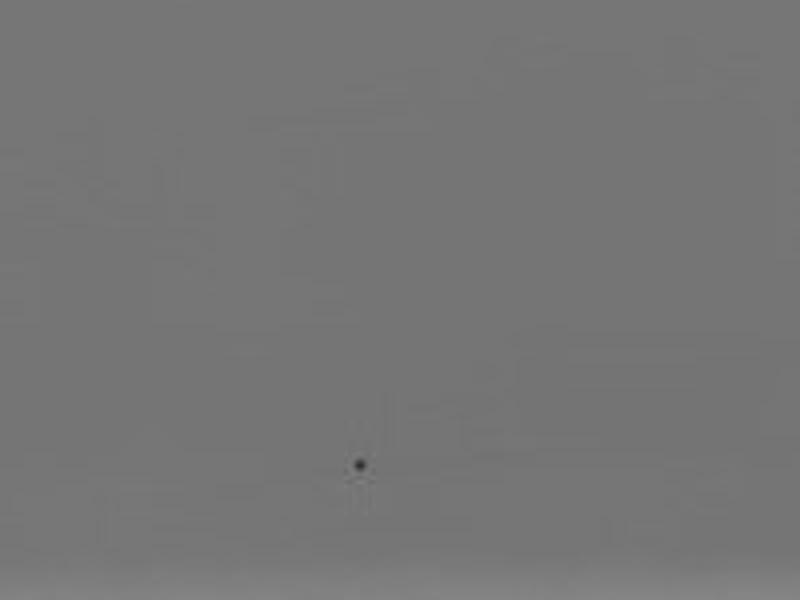defect: (351, 452, 370, 475)
